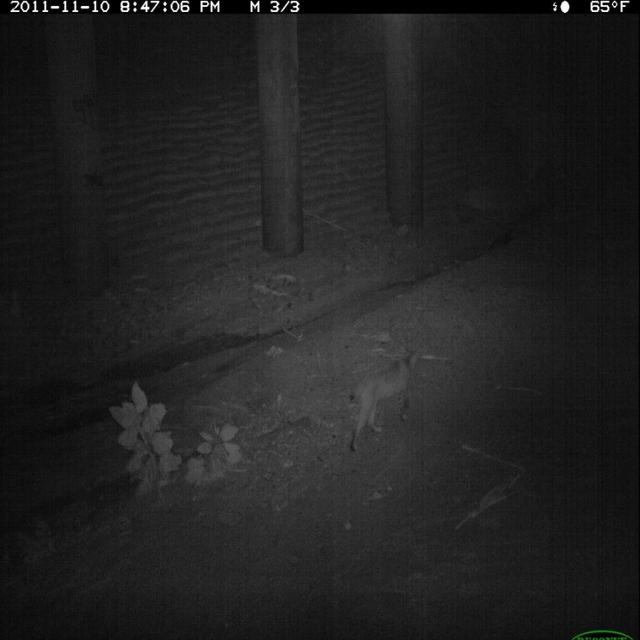bobcat: (346, 342, 425, 459)
